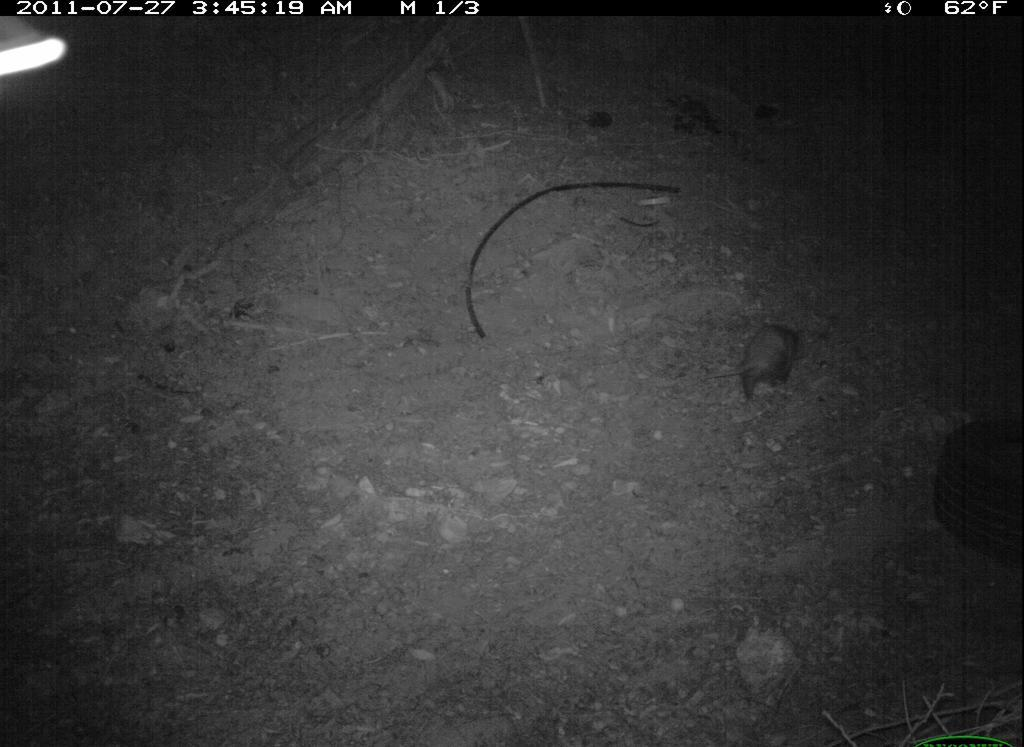opossum: (693, 315, 811, 408)
